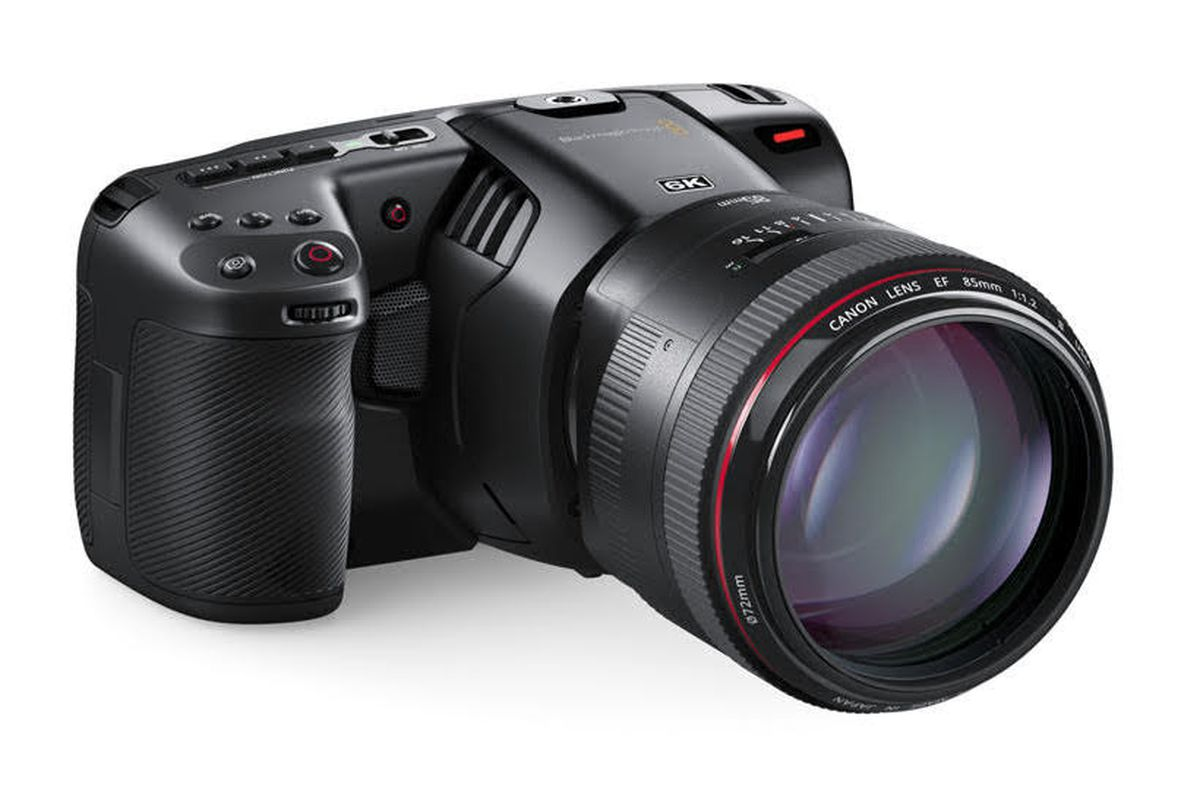kamera: (51, 75, 1129, 735)
